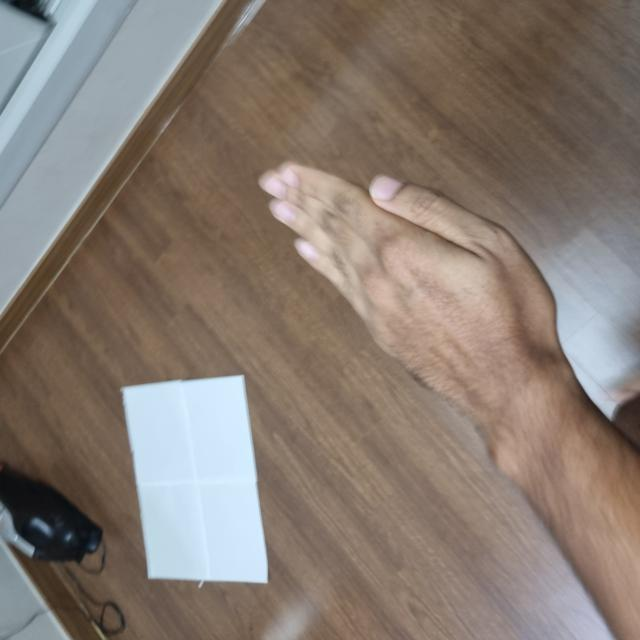Paper: (229, 361, 461, 557)
